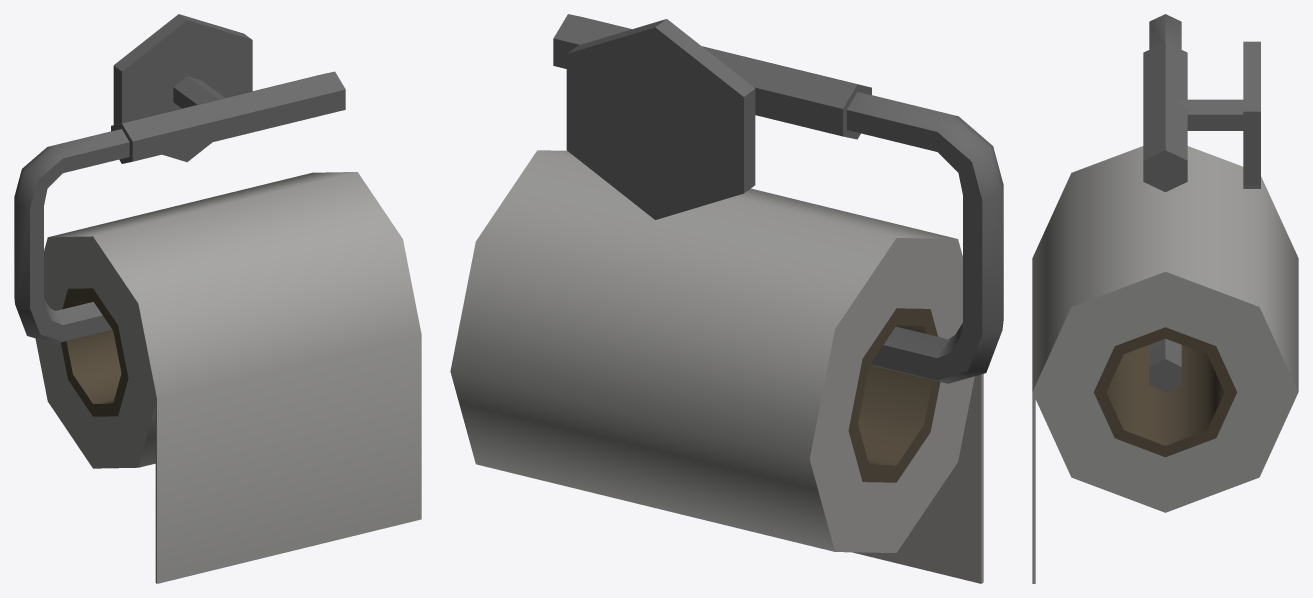
Rendered from Bathroom_ToiletPaper.gltf.
3 renders of one model, left to right at view 1: azimuth 30°, elevation 25°; view 2: azimuth 150°, elevation 25°; view 3: azimuth 270°, elevation 25°, orthographic. The views are drawn at different scales.
Parts seen in each view (by area): view 1: Bathroom_ToiletPaper; view 2: Bathroom_ToiletPaper; view 3: Bathroom_ToiletPaper.
Boxes of the visible parts, x1=… form: Bathroom_ToiletPaper: x1=14, y1=14, x2=421, y2=583; Bathroom_ToiletPaper: x1=450, y1=14, x2=1003, y2=583; Bathroom_ToiletPaper: x1=1032, y1=14, x2=1298, y2=583.
Bounding box in the file's own units: 0.2999 × 0.3444 × 0.1749.
